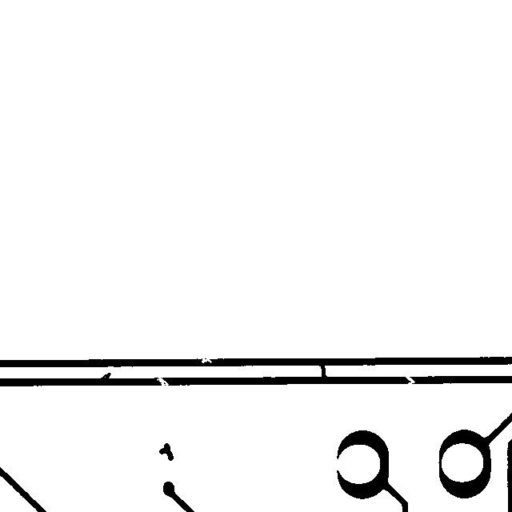copper: (151, 435, 181, 468)
mousebite: (194, 346, 219, 370)
open: (148, 367, 176, 398), (396, 366, 422, 392)
short: (310, 354, 334, 386)
spur: (90, 365, 118, 389)
